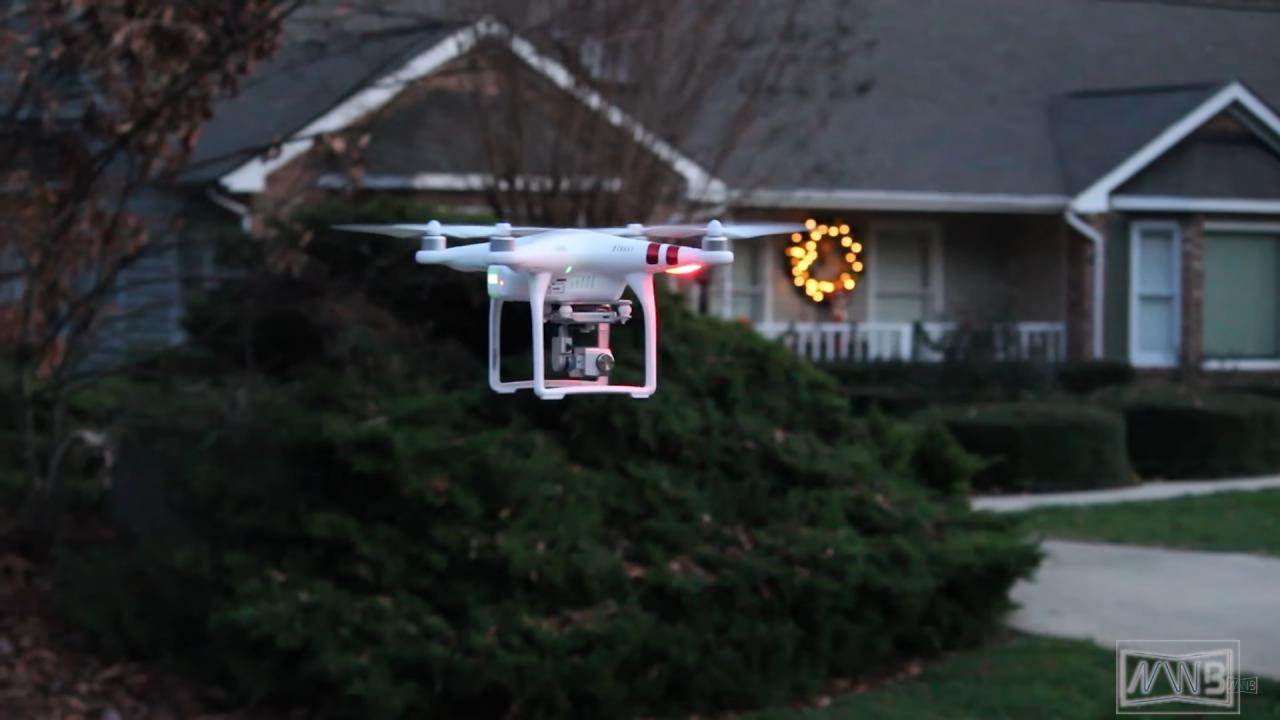Drone: (319, 198, 821, 416)
